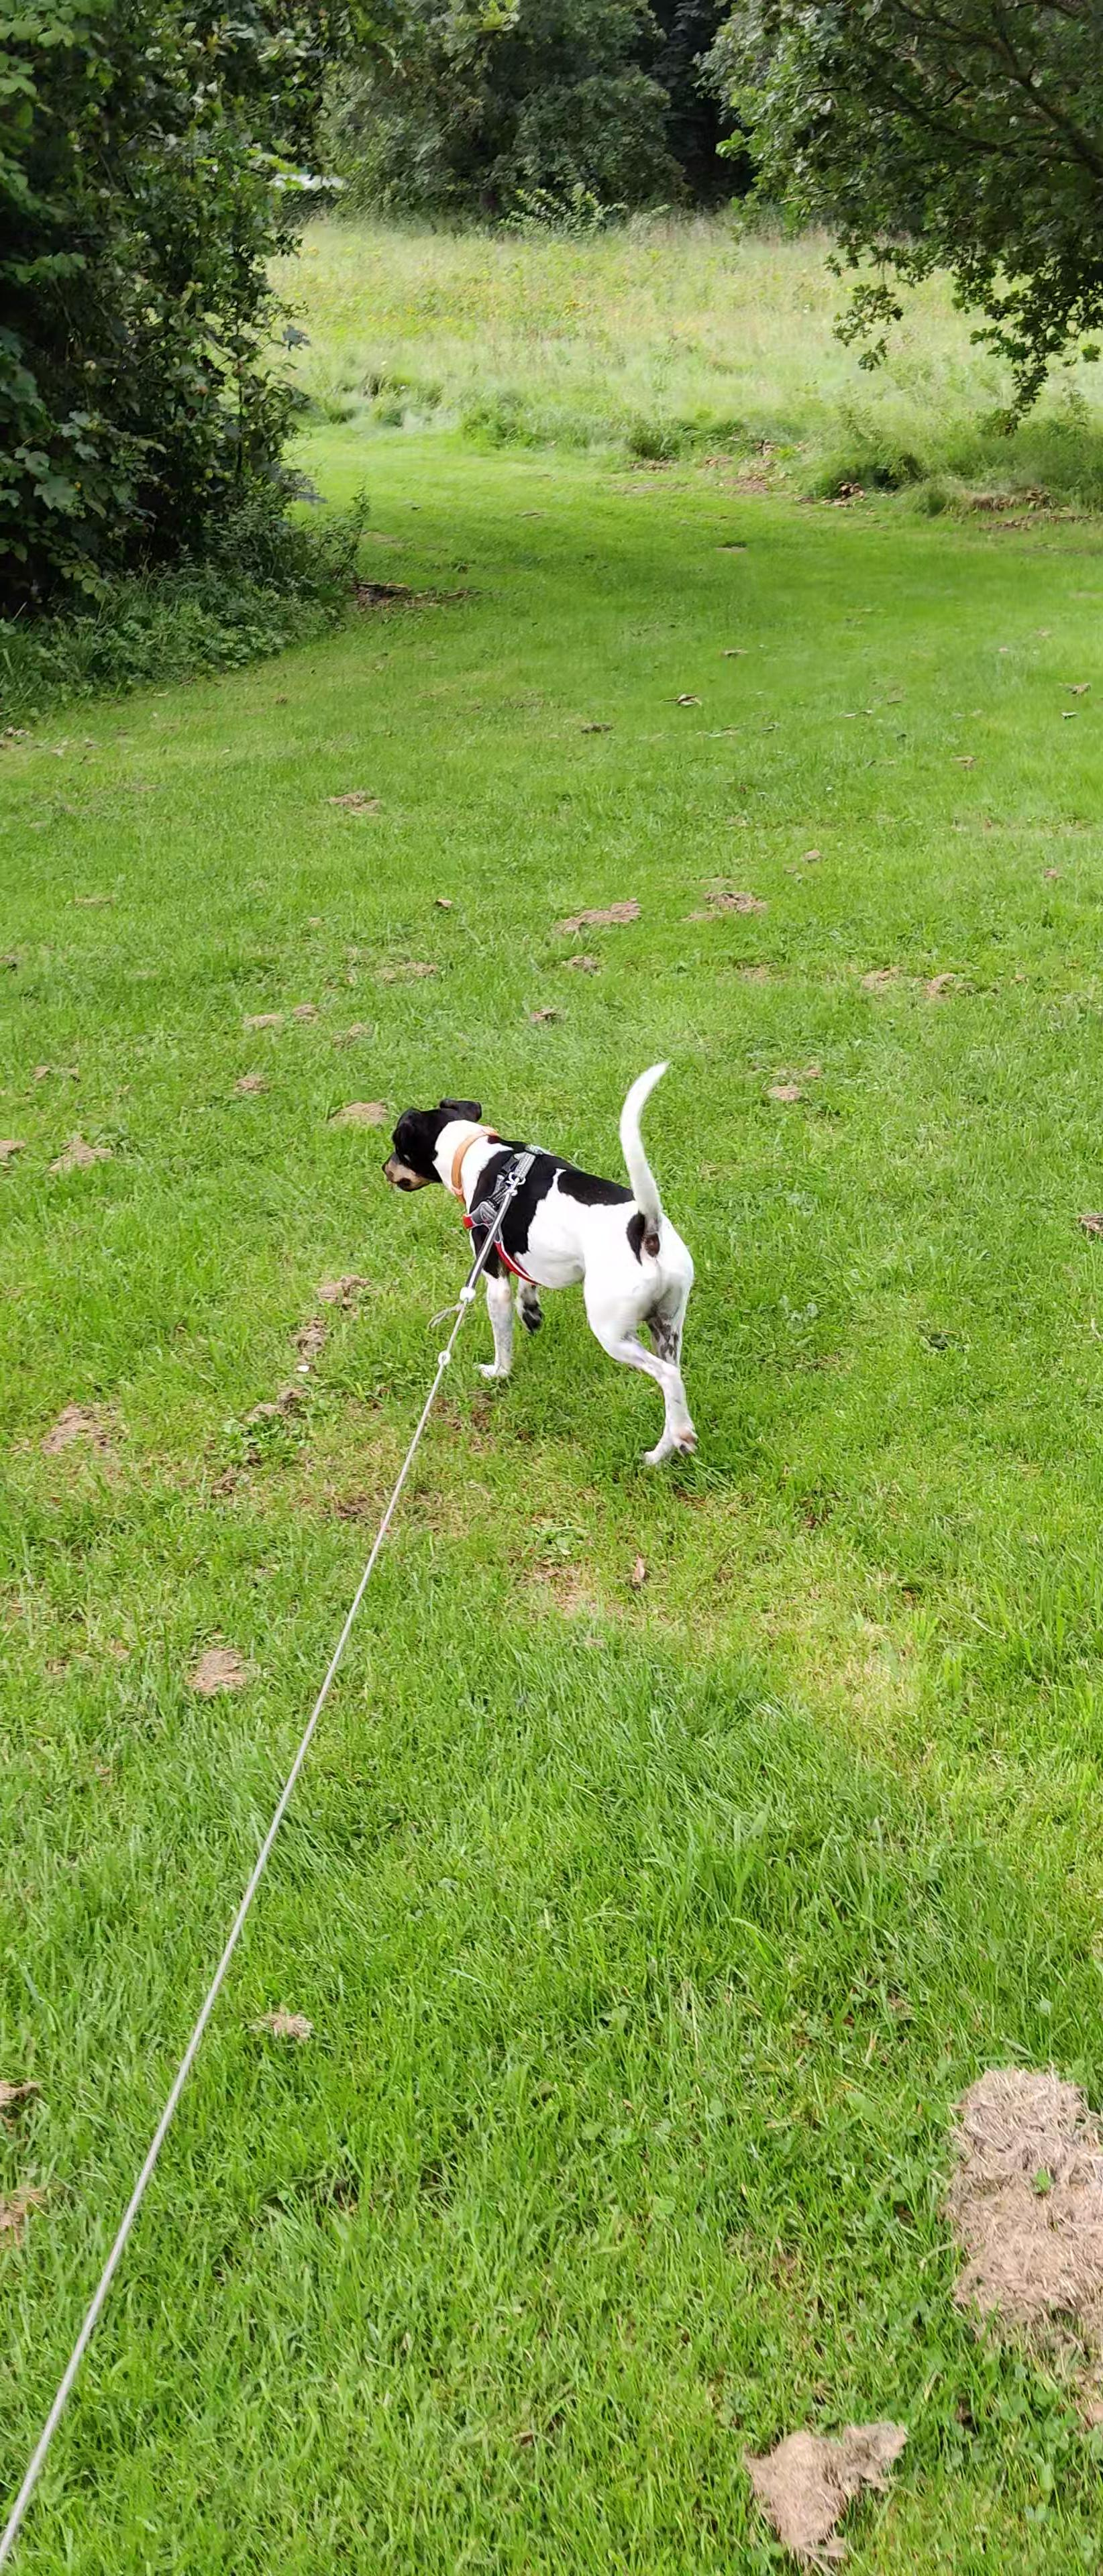Dog: (370, 1051, 707, 1469)
